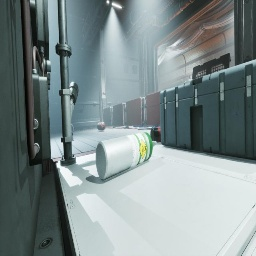0: (96, 132, 157, 180)
FireExtinguisher ]: (150, 126, 161, 143), (72, 131, 73, 136)
NitrogenTank ,: (97, 122, 106, 130)
